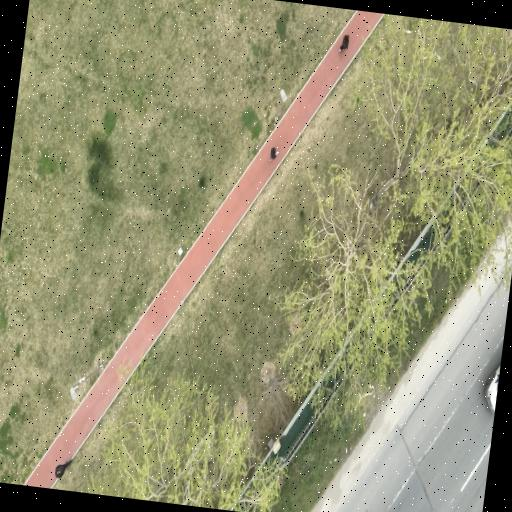car: (484, 364, 500, 414)
person: (54, 459, 70, 478), (339, 34, 348, 51), (270, 146, 277, 160)
